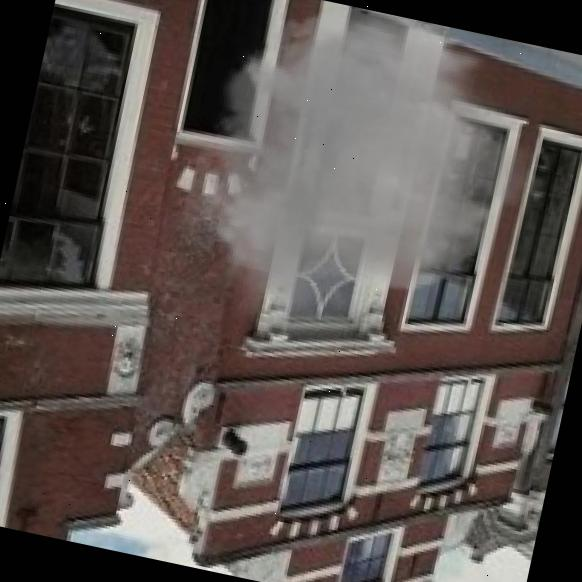smoke: (146, 0, 578, 383)
